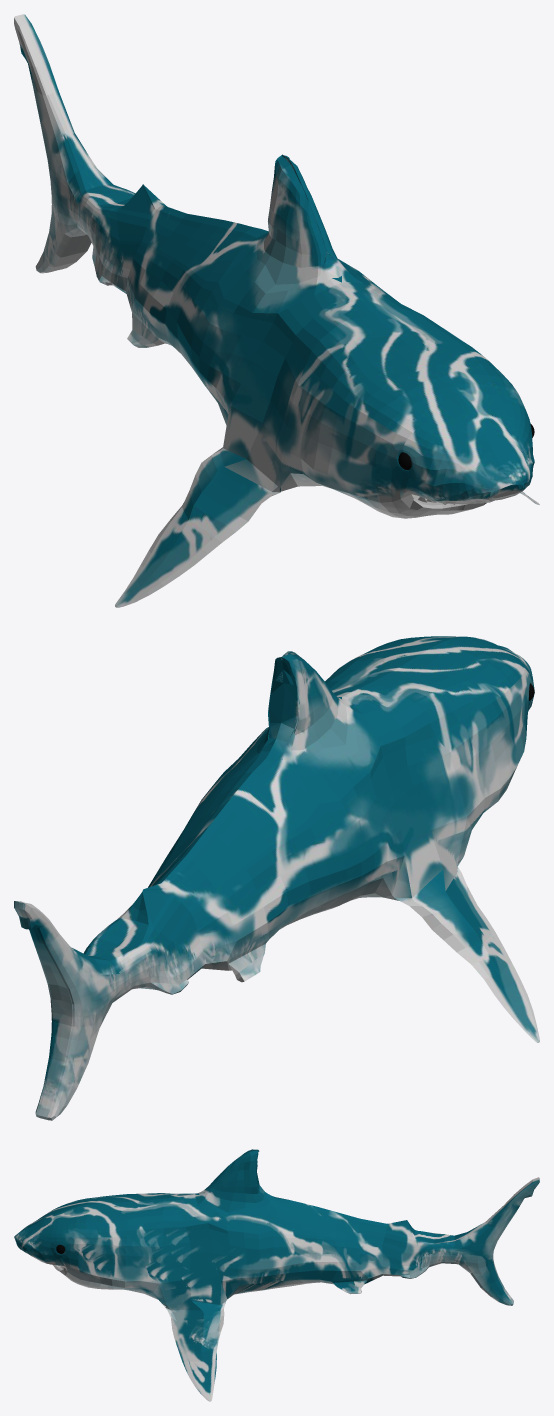
Rendered from MARIA_SHARK.glb.
3 views of the same model, one above another, from view 1: azimuth 30°, elevation 25°; view 2: azimuth 150°, elevation 25°; view 3: azimuth 270°, elevation 25° (orthographic). The views are drawn at different scales.
Visible parts, largest first — view 1: bob; view 2: bob; view 3: bob.
Part boxes in pixels (x1,y1,x2,y2): bob: (14, 14, 539, 607); bob: (14, 636, 539, 1120); bob: (14, 1149, 539, 1401).
Size of the model in its own units: 2.51 by 2.09 by 5.06.
3 materials, 1 textured.
